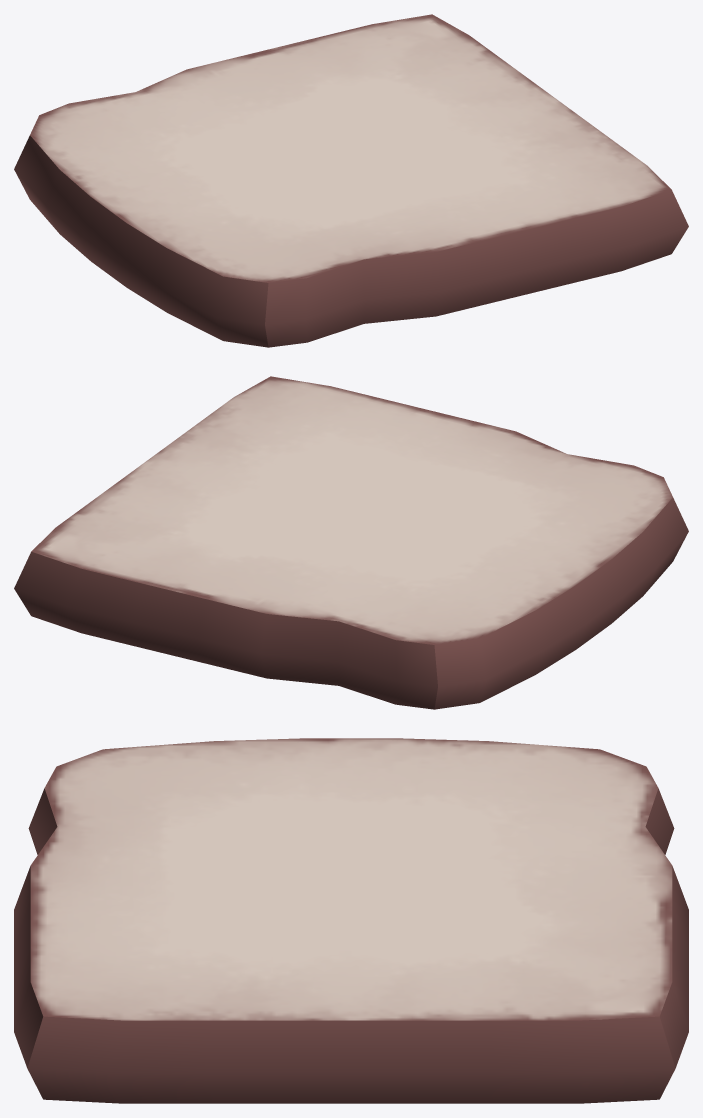
Rendered from Bread.fbx.
3 renders of one model, top to bottom at view 1: azimuth 30°, elevation 25°; view 2: azimuth 150°, elevation 25°; view 3: azimuth 270°, elevation 25°, orthographic. The views are drawn at different scales.
Parts seen in each view (by area): view 1: ING_Bread; view 2: ING_Bread; view 3: ING_Bread.
Part boxes in pixels (x1,y1,x2,y2): ING_Bread: [14, 14, 688, 347]; ING_Bread: [14, 376, 688, 709]; ING_Bread: [14, 738, 688, 1103].
Size of the model in its own units: 32.95 by 4.31 by 31.7.
